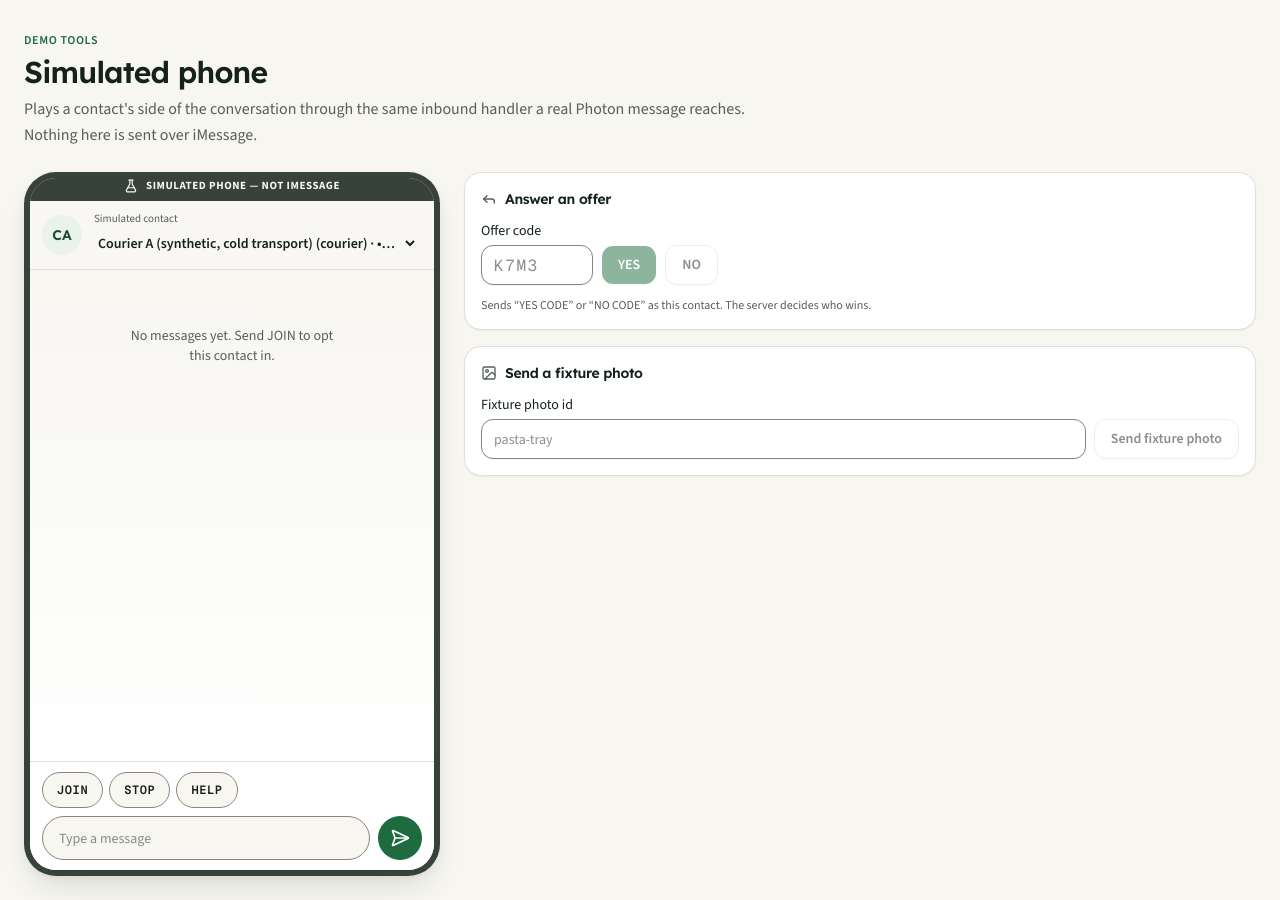
SimulatedPhone › sends YES <code> as { identity_id, text } and shows the claim outcome without success styling
Type "k7m3" into the field labelled "Offer code" at point(537, 265), box [481,245,593,285]
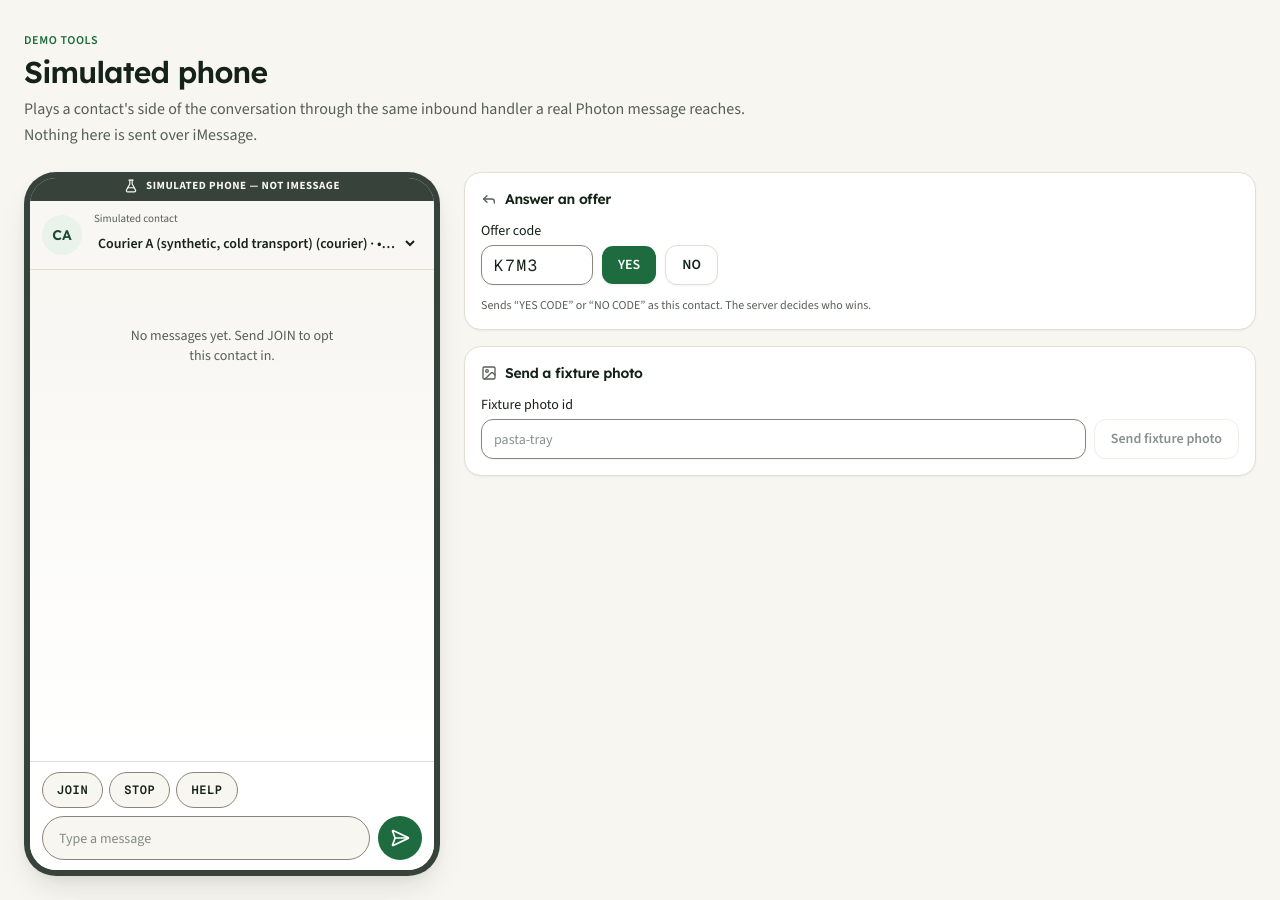
Click the button "YES" at point(629, 265), box [601,245,657,285]
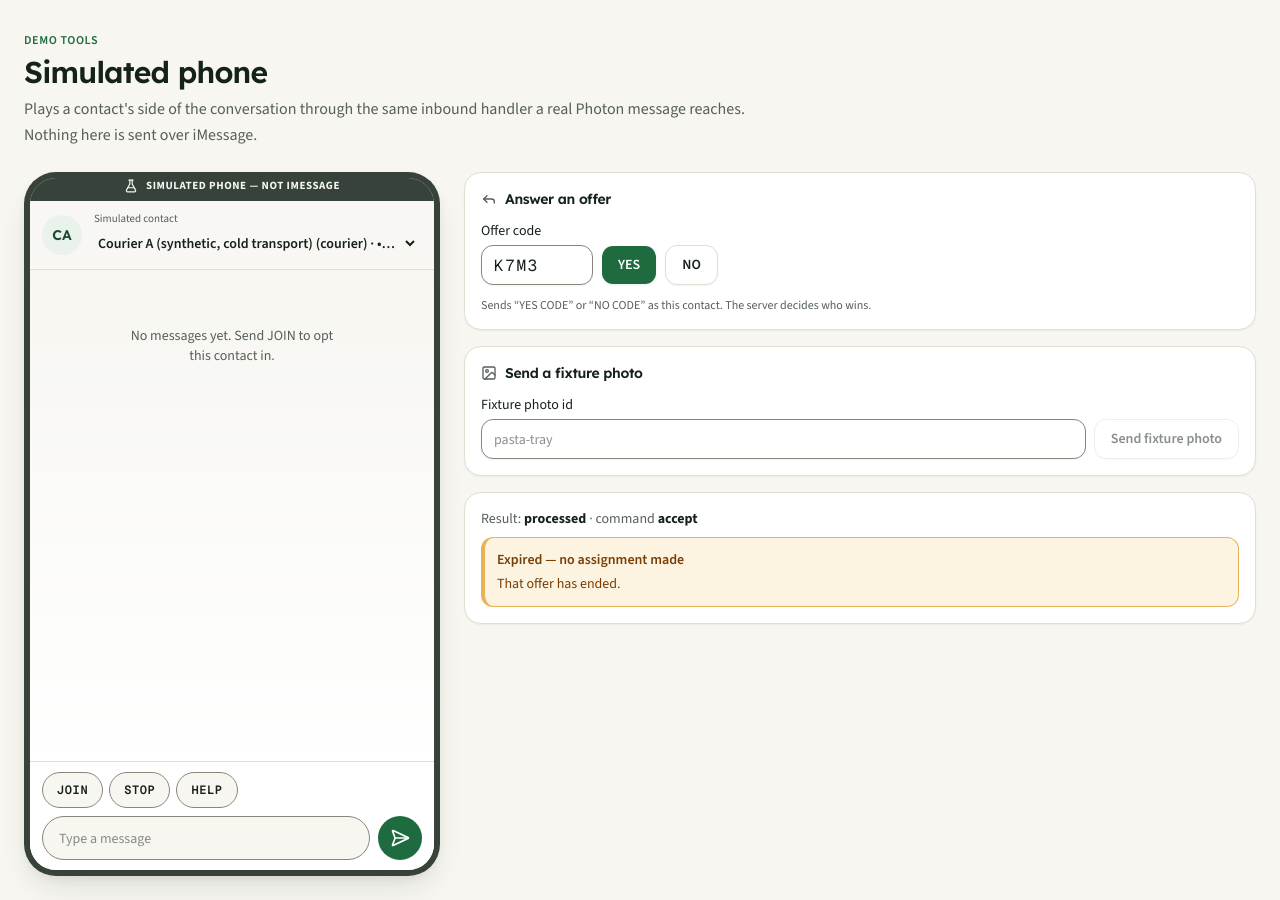
Expected: the text with test id "claim-headline" reads "Expired — no assignment made", [497,550,684,569]
